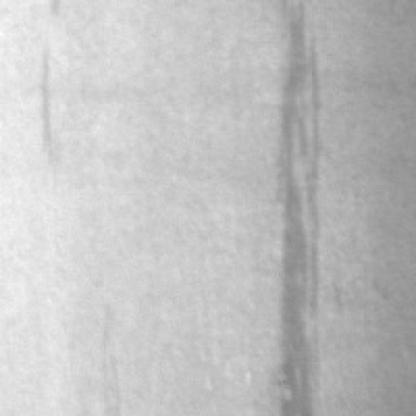inclusion: (266, 10, 325, 416), (27, 40, 69, 172)
